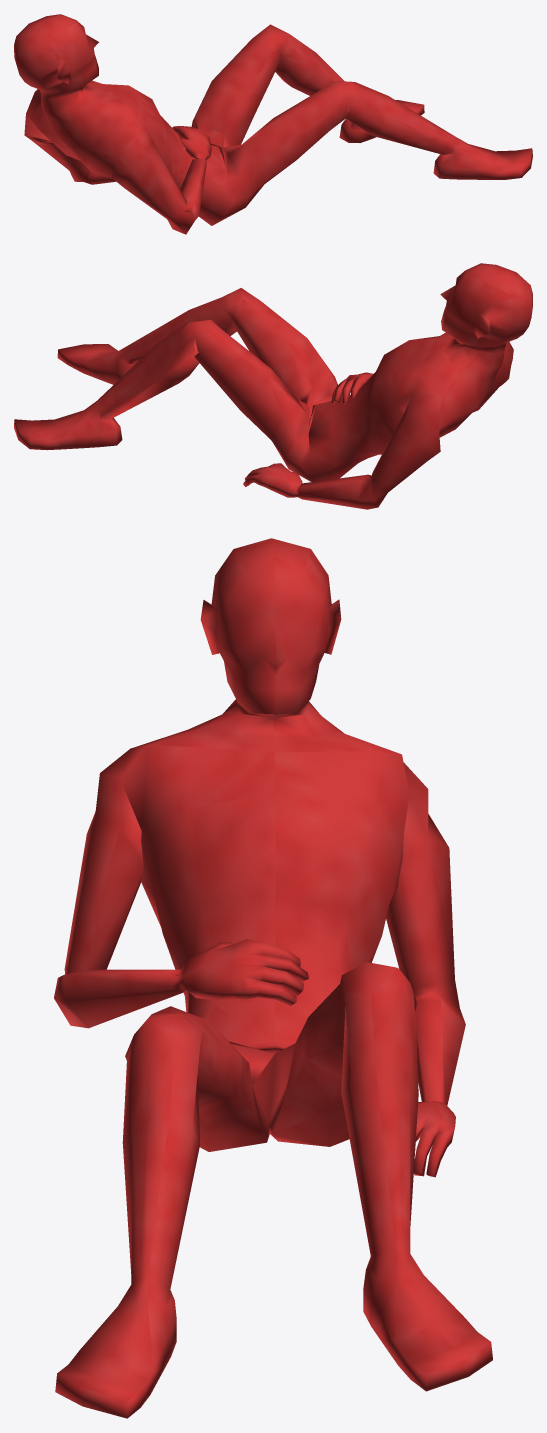
File: g_body.fbx
3 views of the same model, one above another, from view 1: azimuth 30°, elevation 25°; view 2: azimuth 150°, elevation 25°; view 3: azimuth 270°, elevation 25° (orthographic). The views are drawn at different scales.
Parts seen in each view (by area): view 1: bodyinchest; view 2: bodyinchest; view 3: bodyinchest.
Boxes of the visible parts, x1,y1,x2,y2 form: bodyinchest: (14, 14, 532, 234); bodyinchest: (14, 263, 532, 509); bodyinchest: (54, 538, 492, 1418).
Bounding box in the file's own units: 1.95 × 0.7737 × 0.8958.
Materials: 1 (1 with a texture image).
